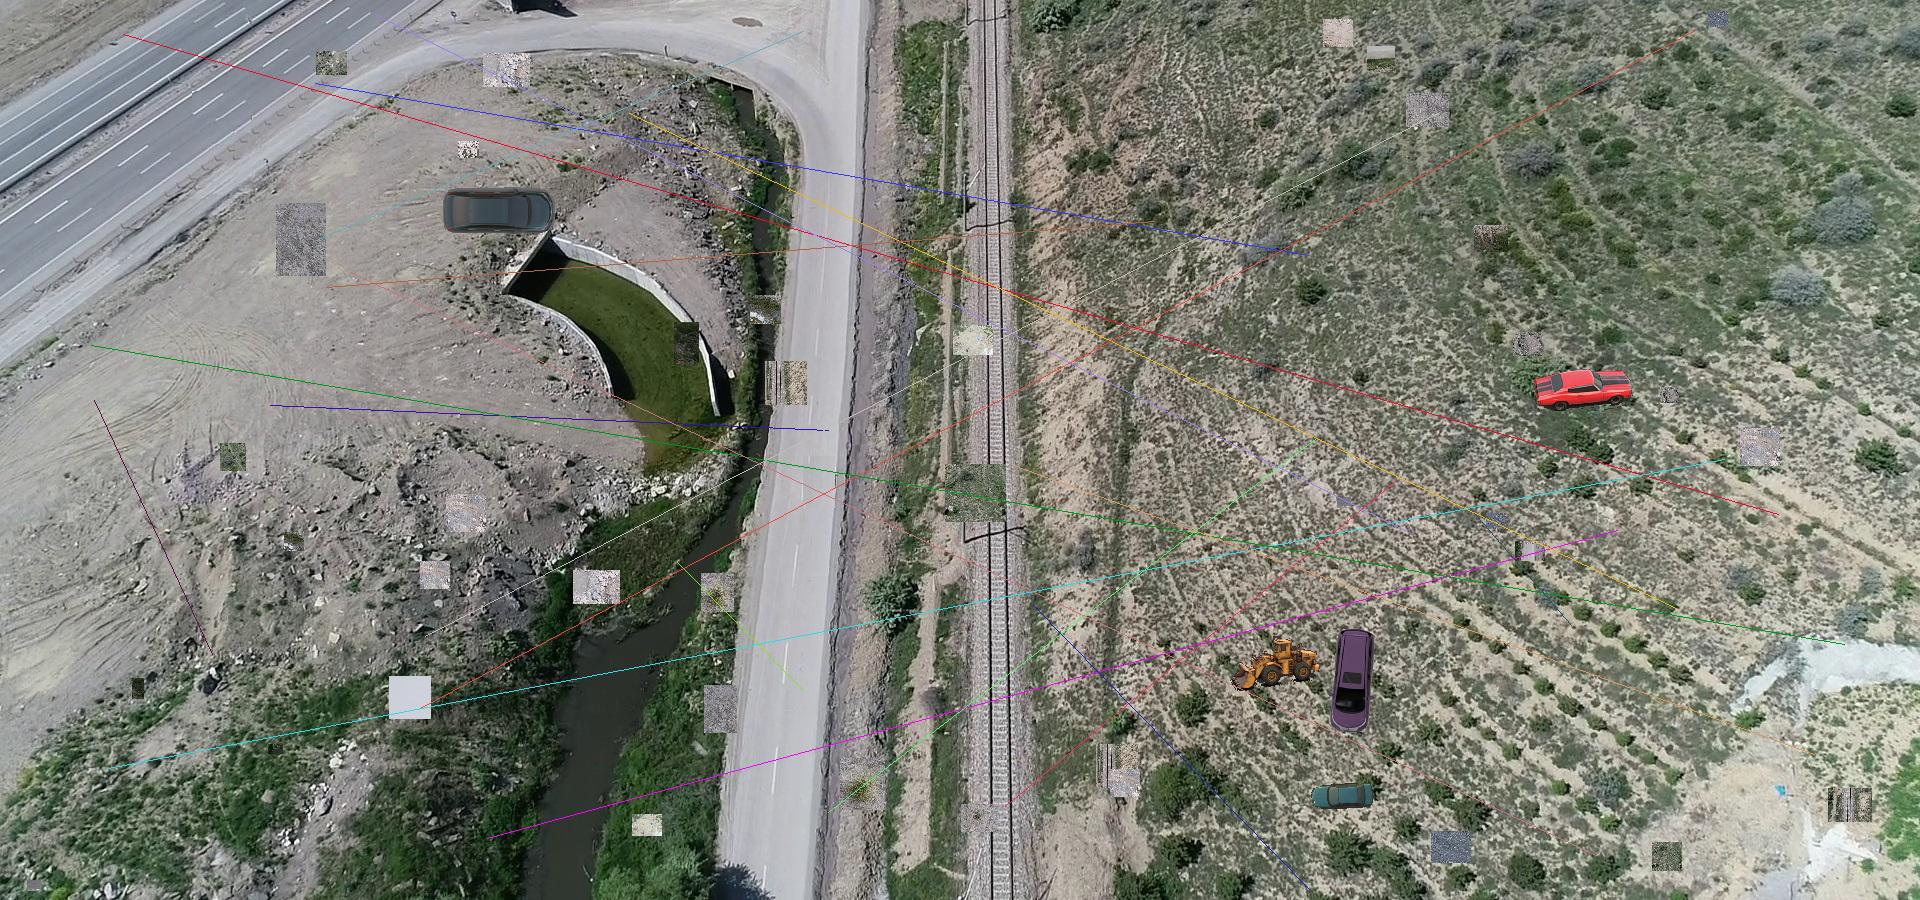arac: (1322, 626, 1376, 733), (441, 185, 555, 235), (1228, 632, 1322, 691), (1532, 369, 1635, 411), (1310, 782, 1375, 811)
